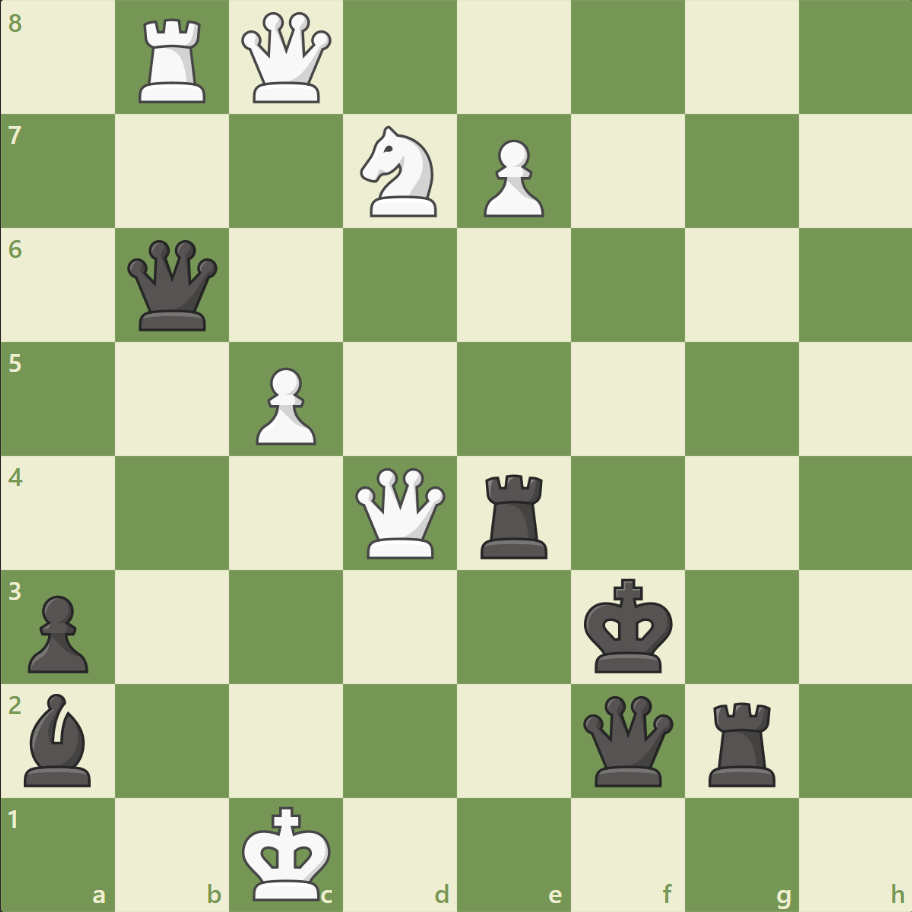K: (238, 798, 338, 906)
N: (351, 121, 449, 223)
P: (474, 132, 549, 223), (247, 359, 322, 450)
Q: (237, 9, 336, 108), (351, 463, 450, 562)
R: (133, 12, 215, 109)
b: (17, 687, 101, 790)
k: (579, 571, 679, 679)
p: (20, 586, 95, 677)
q: (124, 236, 223, 335), (578, 690, 677, 789)
r: (473, 466, 556, 563), (700, 693, 783, 790)
